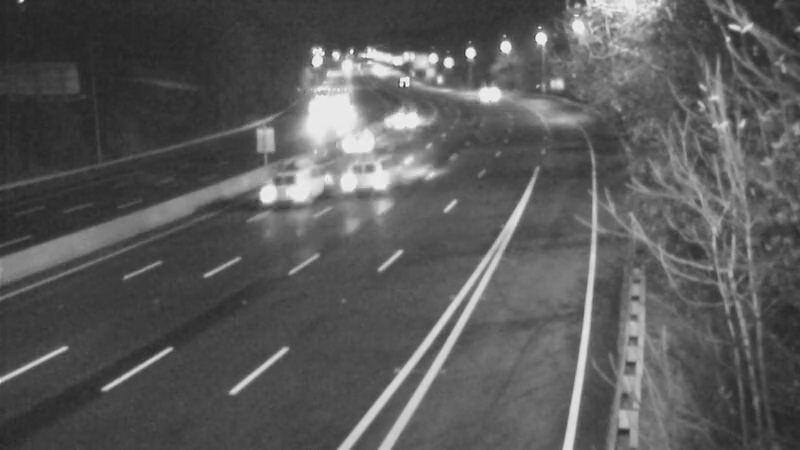vehicle: (331, 135, 411, 215), (249, 150, 329, 230), (374, 55, 424, 105), (461, 68, 511, 118), (375, 97, 425, 147), (333, 116, 383, 166), (297, 83, 347, 133)
